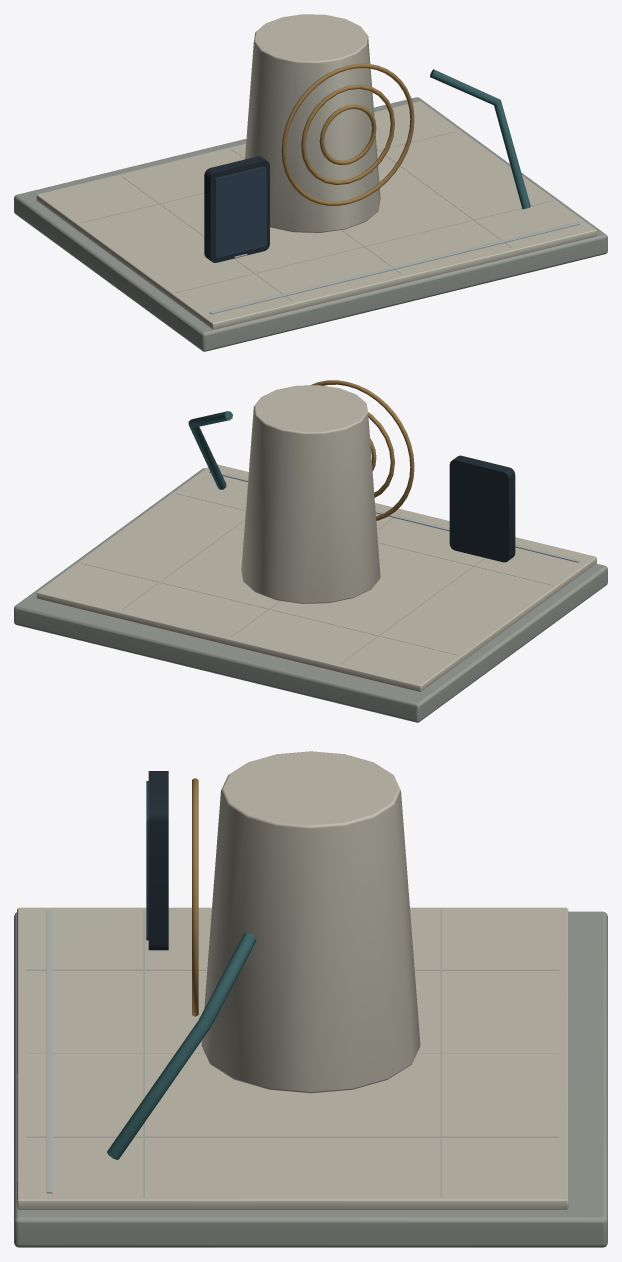
Rendered from idea-c7ea258e.glb.
3 renders of one model, top to bottom at view 1: azimuth 30°, elevation 25°; view 2: azimuth 150°, elevation 25°; view 3: azimuth 270°, elevation 25°, orthographic. The views are drawn at different scales.
Visible parts, largest first — view 1: Wi-Fi Reflective Tattoos; view 2: Wi-Fi Reflective Tattoos; view 3: Wi-Fi Reflective Tattoos.
Boxes of the visible parts, x1,y1,x2,y2 form: Wi-Fi Reflective Tattoos: (14,14,607,351); Wi-Fi Reflective Tattoos: (14,380,607,722); Wi-Fi Reflective Tattoos: (14,751,607,1247).
Bounding box in the file's own units: 4.8 × 2.22 × 3.9.
